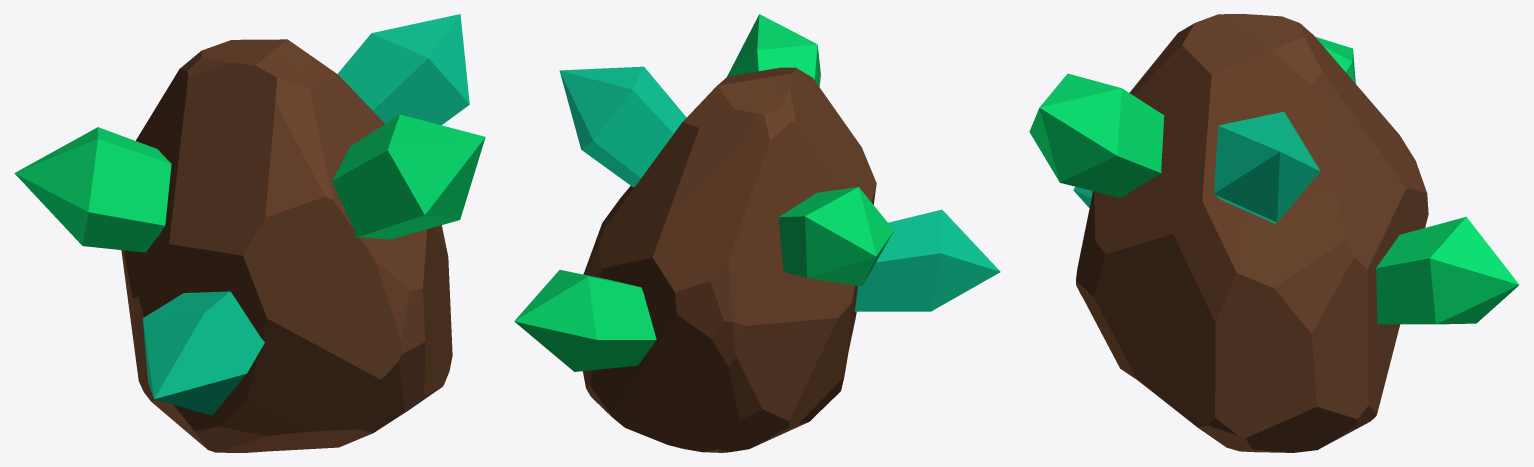
Rendered from MineralNode_08_A.fbx.
The picture shows the model from 3 angles, left to right: view 1: azimuth 30°, elevation 25°; view 2: azimuth 150°, elevation 25°; view 3: azimuth 270°, elevation 25°; orthographic projection. The views are drawn at different scales.
Parts seen in each view (by area): view 1: MineralNode_08_A; view 2: MineralNode_08_A; view 3: MineralNode_08_A.
Part boxes in pixels (x1,y1,x2,y2): MineralNode_08_A: [14, 14, 485, 452]; MineralNode_08_A: [514, 14, 1000, 452]; MineralNode_08_A: [1029, 14, 1519, 452].
Size of the model in its own units: 94.78 by 90.02 by 105.
